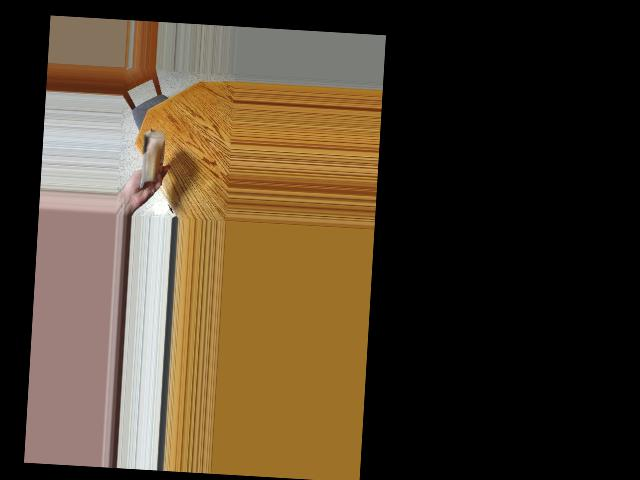cheese: (129, 132, 167, 185)
